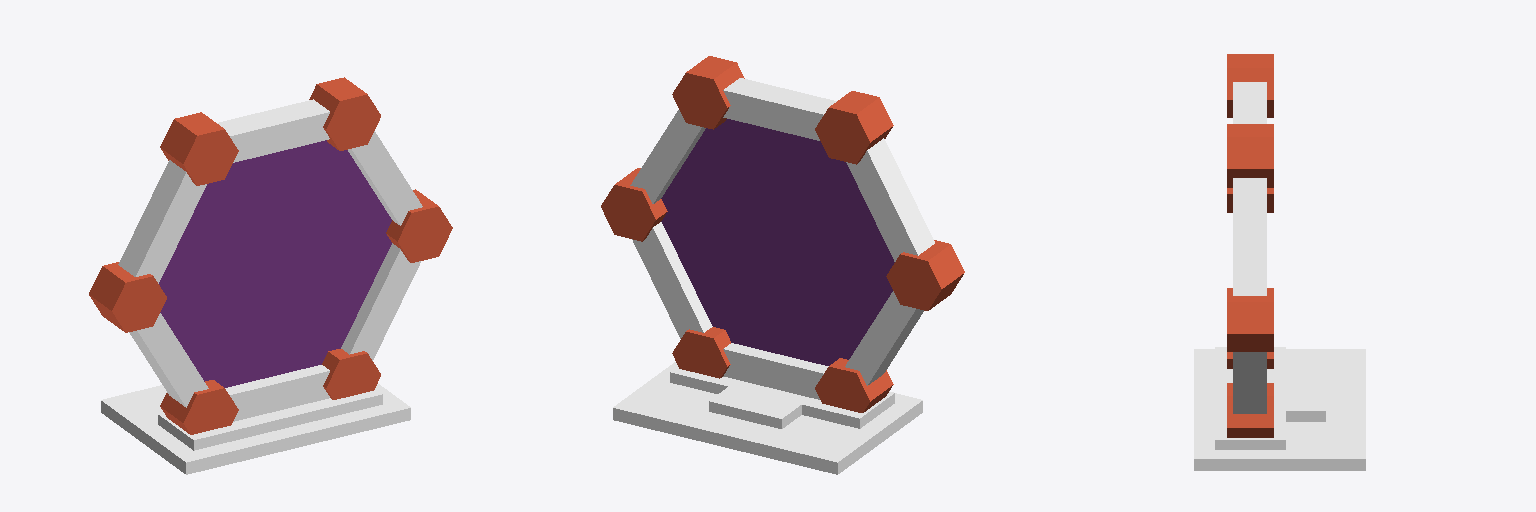
Rendered from portal.obj.
3 renders of one model, left to right at view 1: azimuth 30°, elevation 25°; view 2: azimuth 150°, elevation 25°; view 3: azimuth 270°, elevation 25°, orthographic.
Parts seen in each view (by area): view 1: portal; view 2: portal; view 3: portal.
Part boxes in pixels (left/top/right/bottom): portal: left=89, top=77, right=452, bottom=474; portal: left=601, top=56, right=964, bottom=474; portal: left=1194, top=54, right=1365, bottom=470.
Bounding box in the file's own units: 15.21 × 13.65 × 6.61.